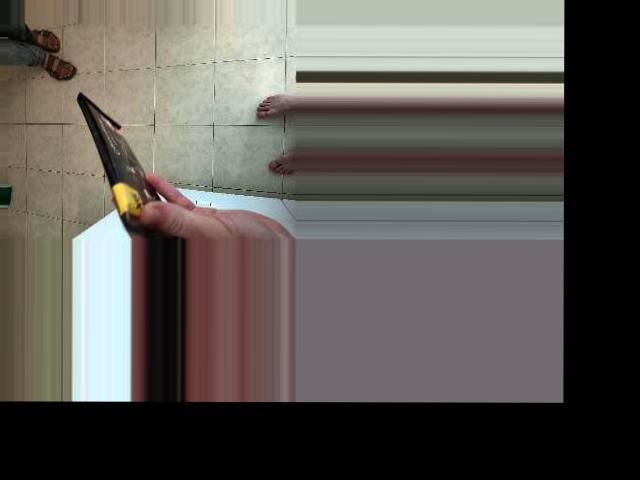chocolate: (77, 68, 223, 175)
